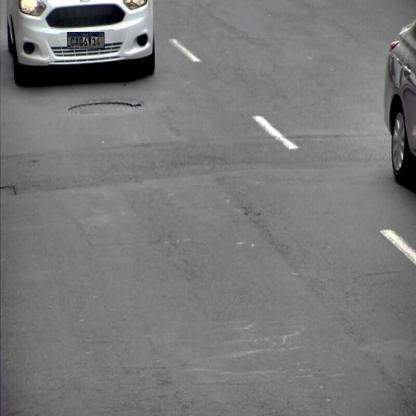PlacaM: (67, 32, 105, 48)
